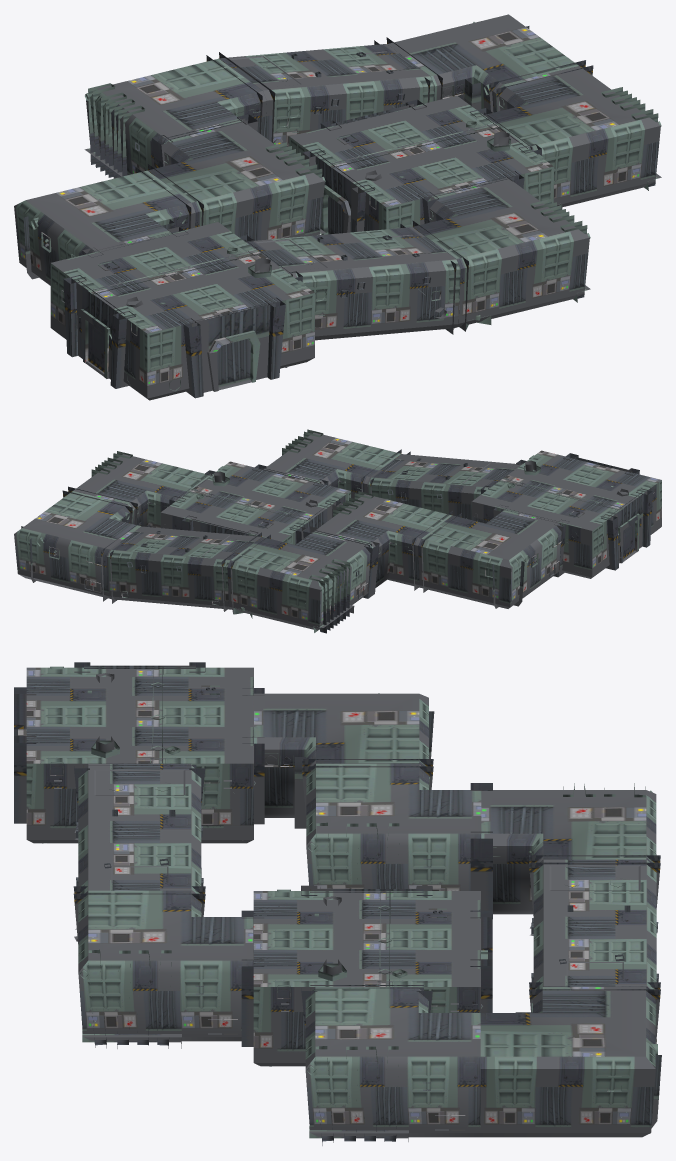
The model's file is Combined_Mesh_root_scene__4_e0ea2853__zombies2_diffuse_06_4771cff4_c1f257.obj.
The picture shows the model from 3 angles, top to bottom: view 1: azimuth 30°, elevation 25°; view 2: azimuth 150°, elevation 25°; view 3: azimuth 270°, elevation 25°; orthographic projection. The views are drawn at different scales.
Bounding box in the file's own units: 76.84 × 12.64 × 57.04.
Materials: 171 (171 with a texture image).
